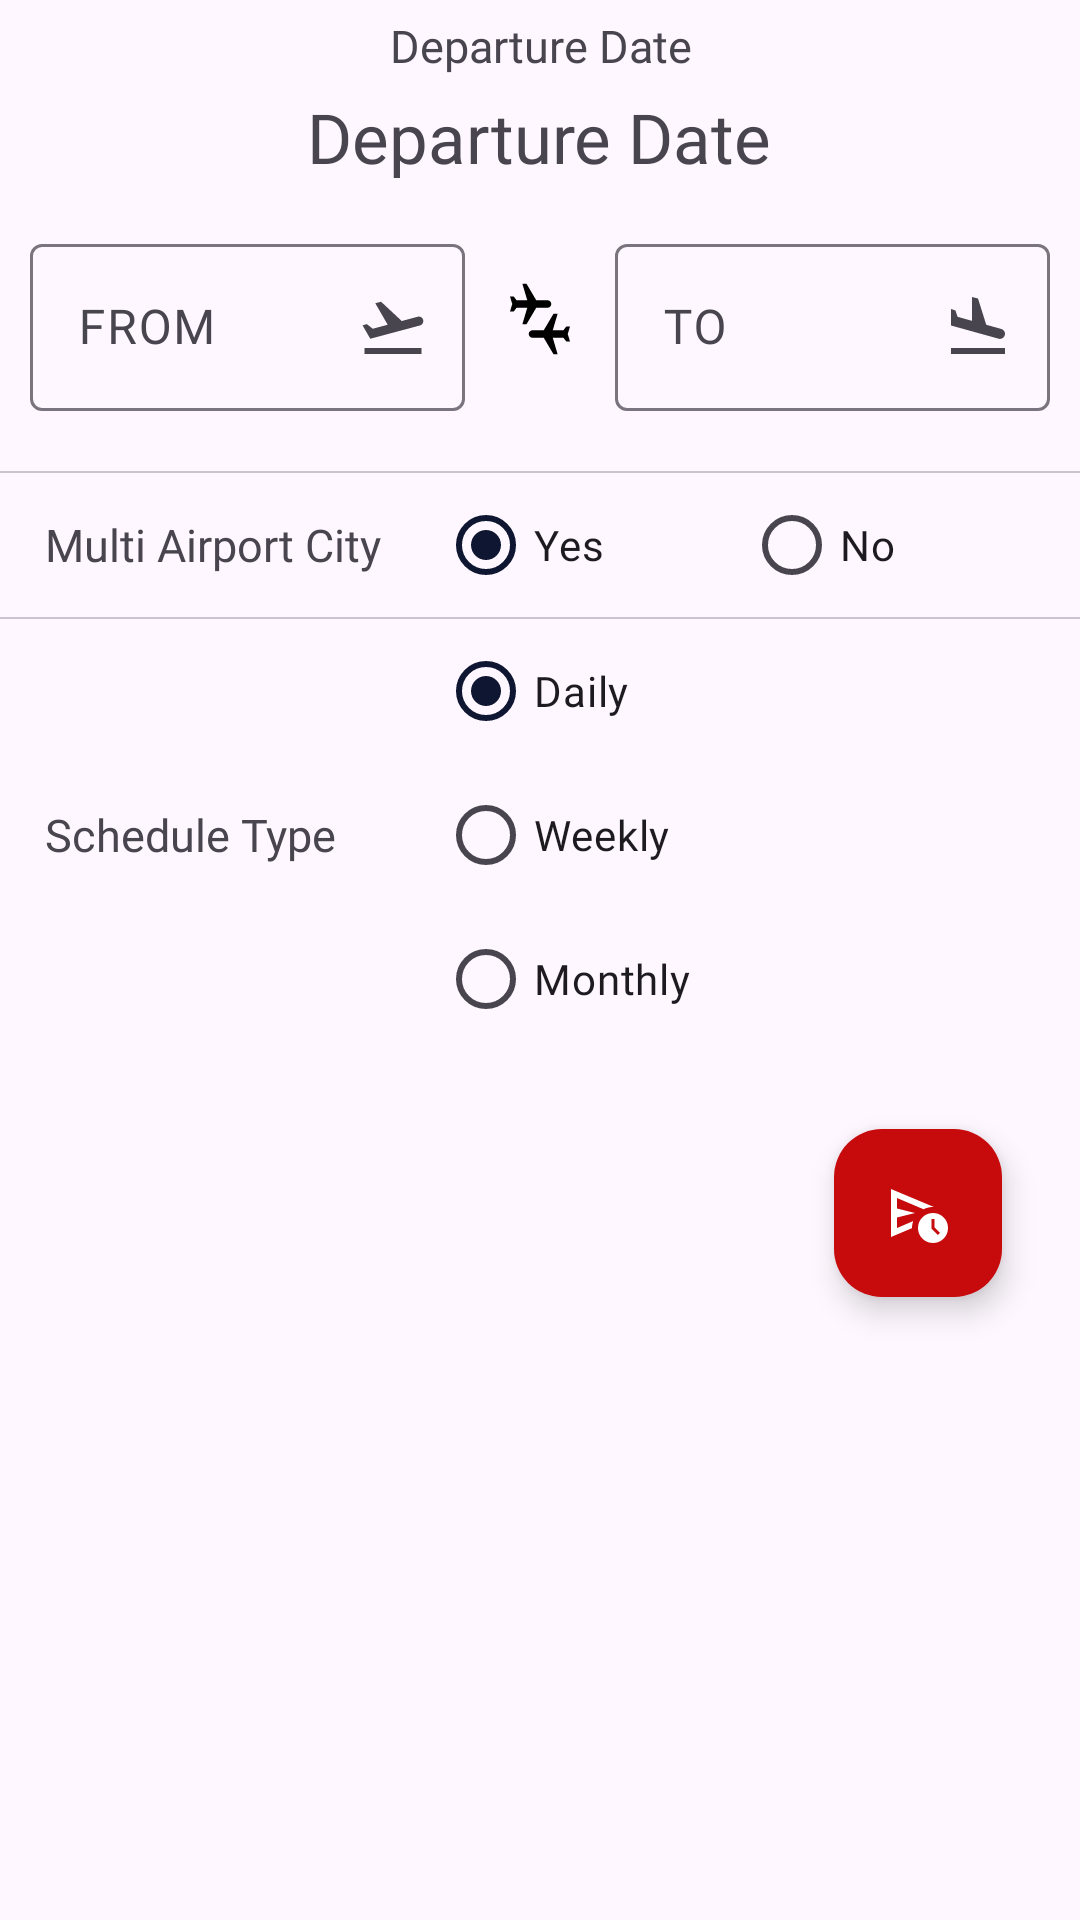

Named icons in this screenshot (1080 x 1920) and their centers, point (x, y):
connect airport: point (540, 319)
schedule: point (918, 1213)
